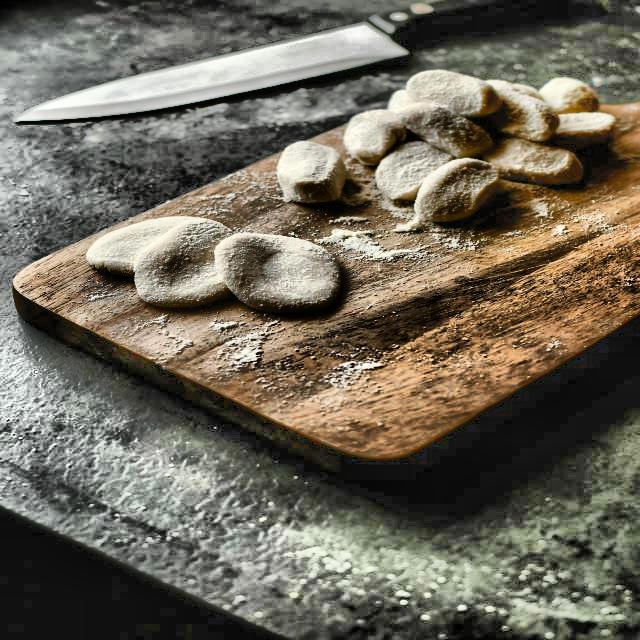knife: (17, 0, 488, 125)
